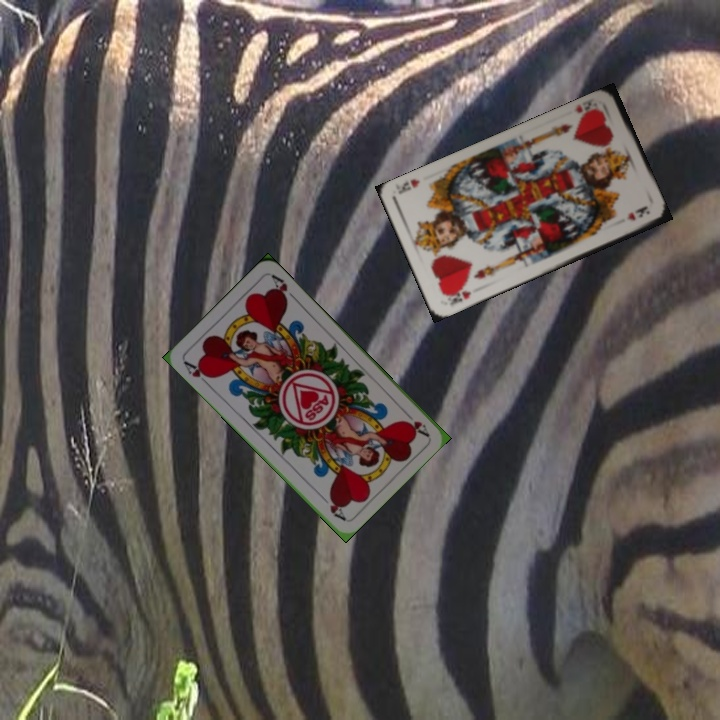HA: (180, 357, 214, 389), (399, 406, 431, 439)
HK: (570, 98, 604, 122), (442, 284, 473, 308)
